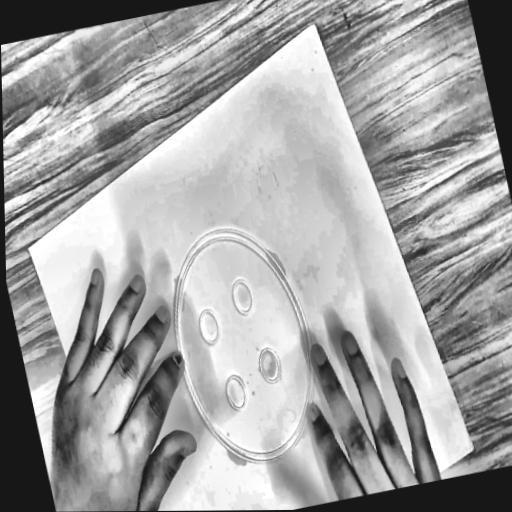bottom_right: (468, 440, 479, 455)
button: (122, 180, 365, 508)
top_left: (24, 243, 33, 255)
top_right: (308, 17, 321, 32)
